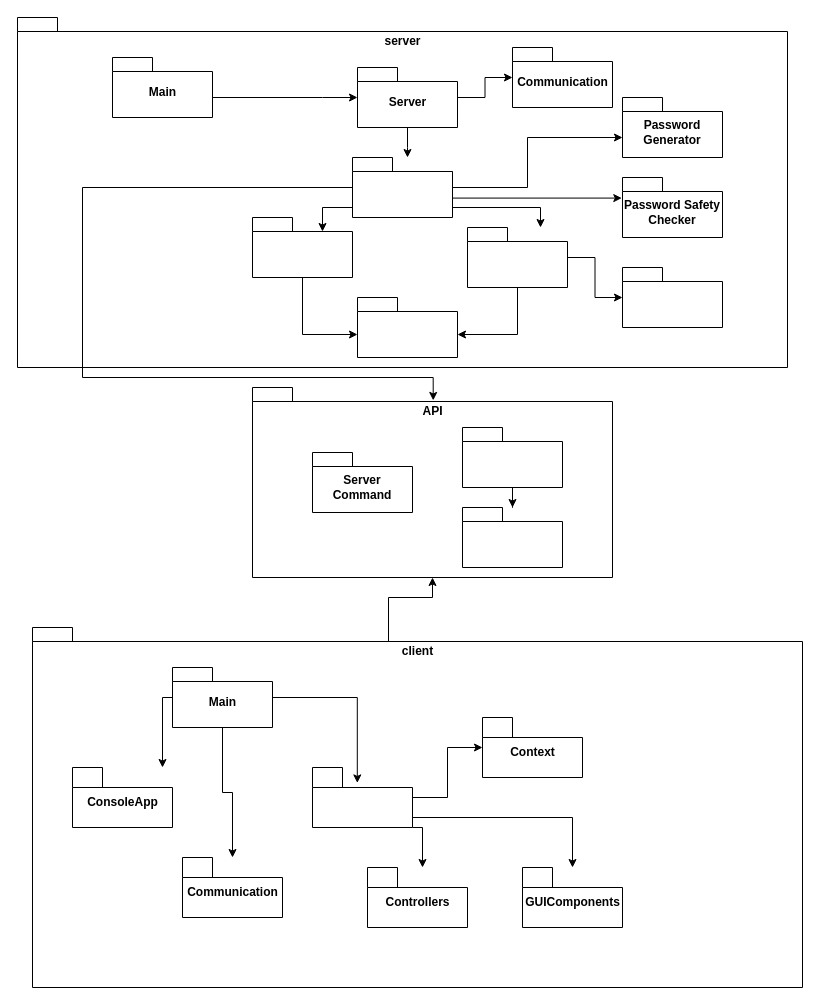
Image size: 820x1005. Some labels were removed from this diagram. Each missing label, with the centre of its shape:
"<<interface>> Password Vault" goes at point 302,247.
"<<interface>> User Repository" goes at point 517,257.
"Command Executor" goes at point 402,187.
"Cryptograpy" goes at point 407,327.
"GuiApp" goes at point 362,797.
"Response" goes at point 512,457.
"Server Response Code" goes at point 512,537.
"Session" goes at point 672,297.
